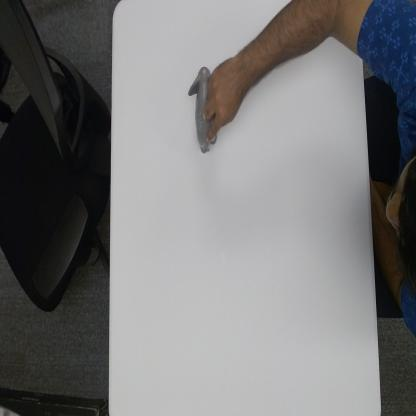Arm: (244, 0, 366, 93)
Elephant: (187, 64, 217, 157)
Hand: (203, 57, 246, 147)
